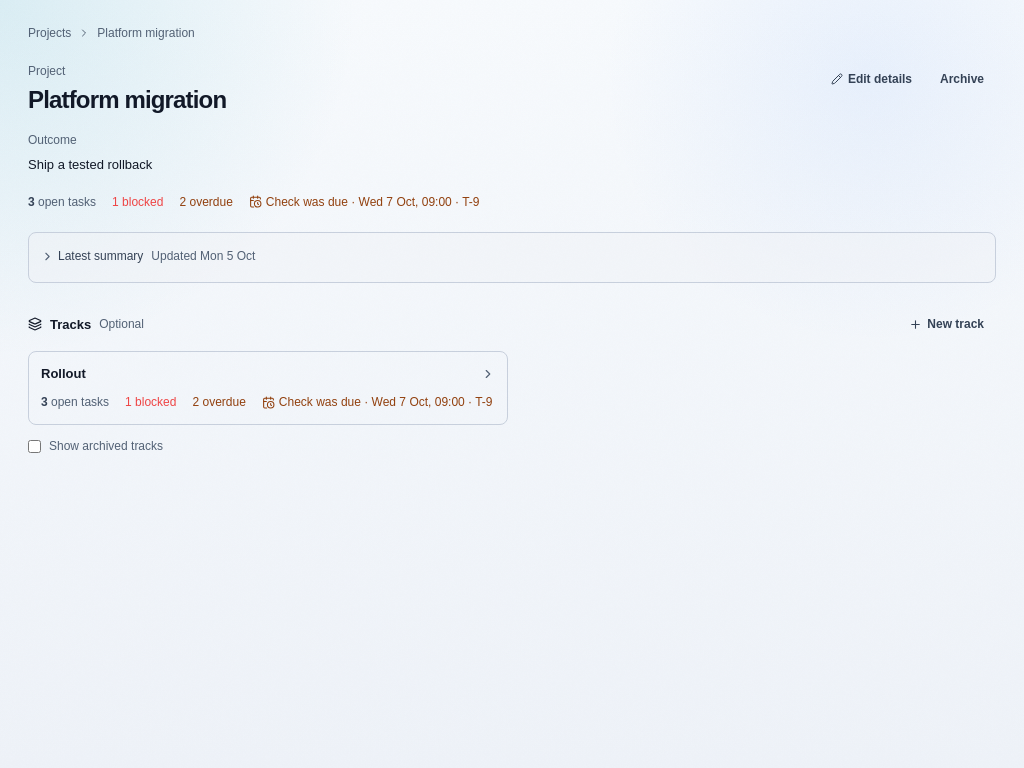
Test: Projects browsing and lifecycle › edits private summaries without navigating away or changing placement
Click the button "Edit details": (872, 79) [819,62,924,96]
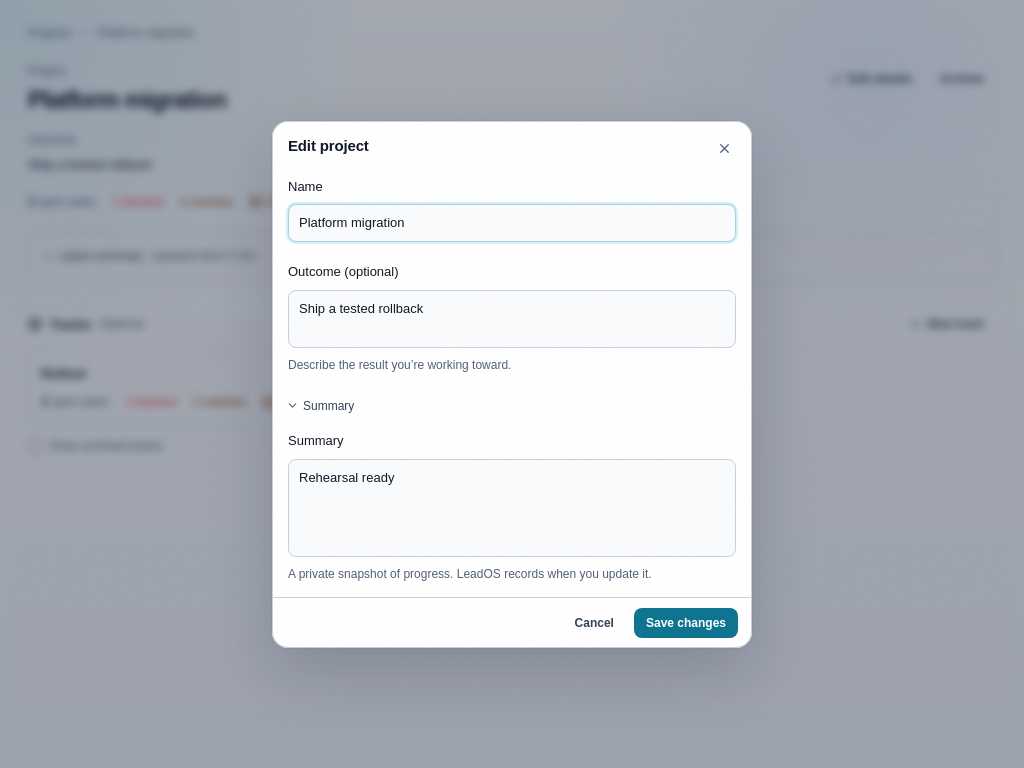
Replace the text in the text box labelled "Summary" with "Ready for rollout": (512, 508) [288,458,736,556]
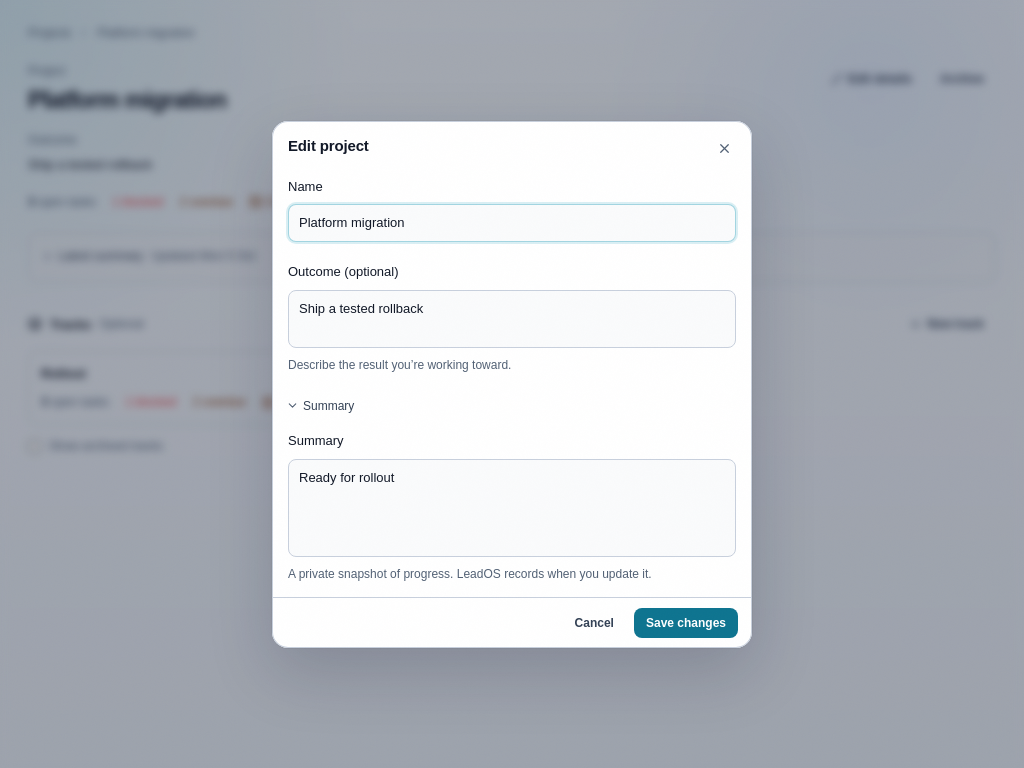
Click the button "Save changes": (686, 622) [634,608,738,638]
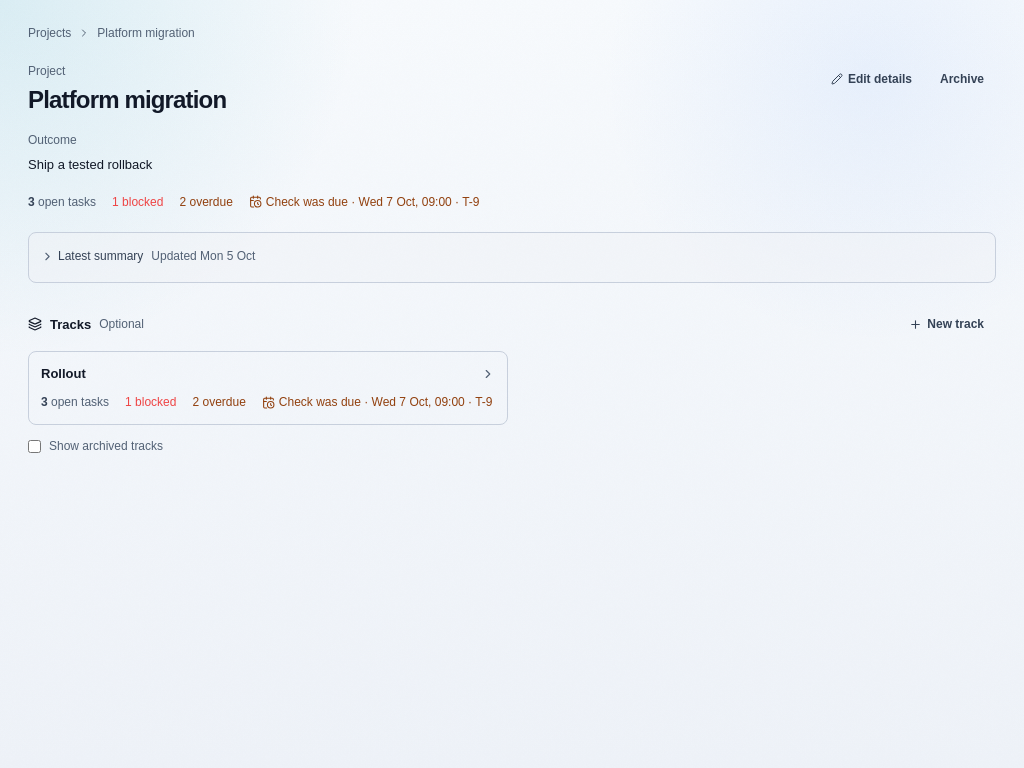
Expected: the dialog is gone
